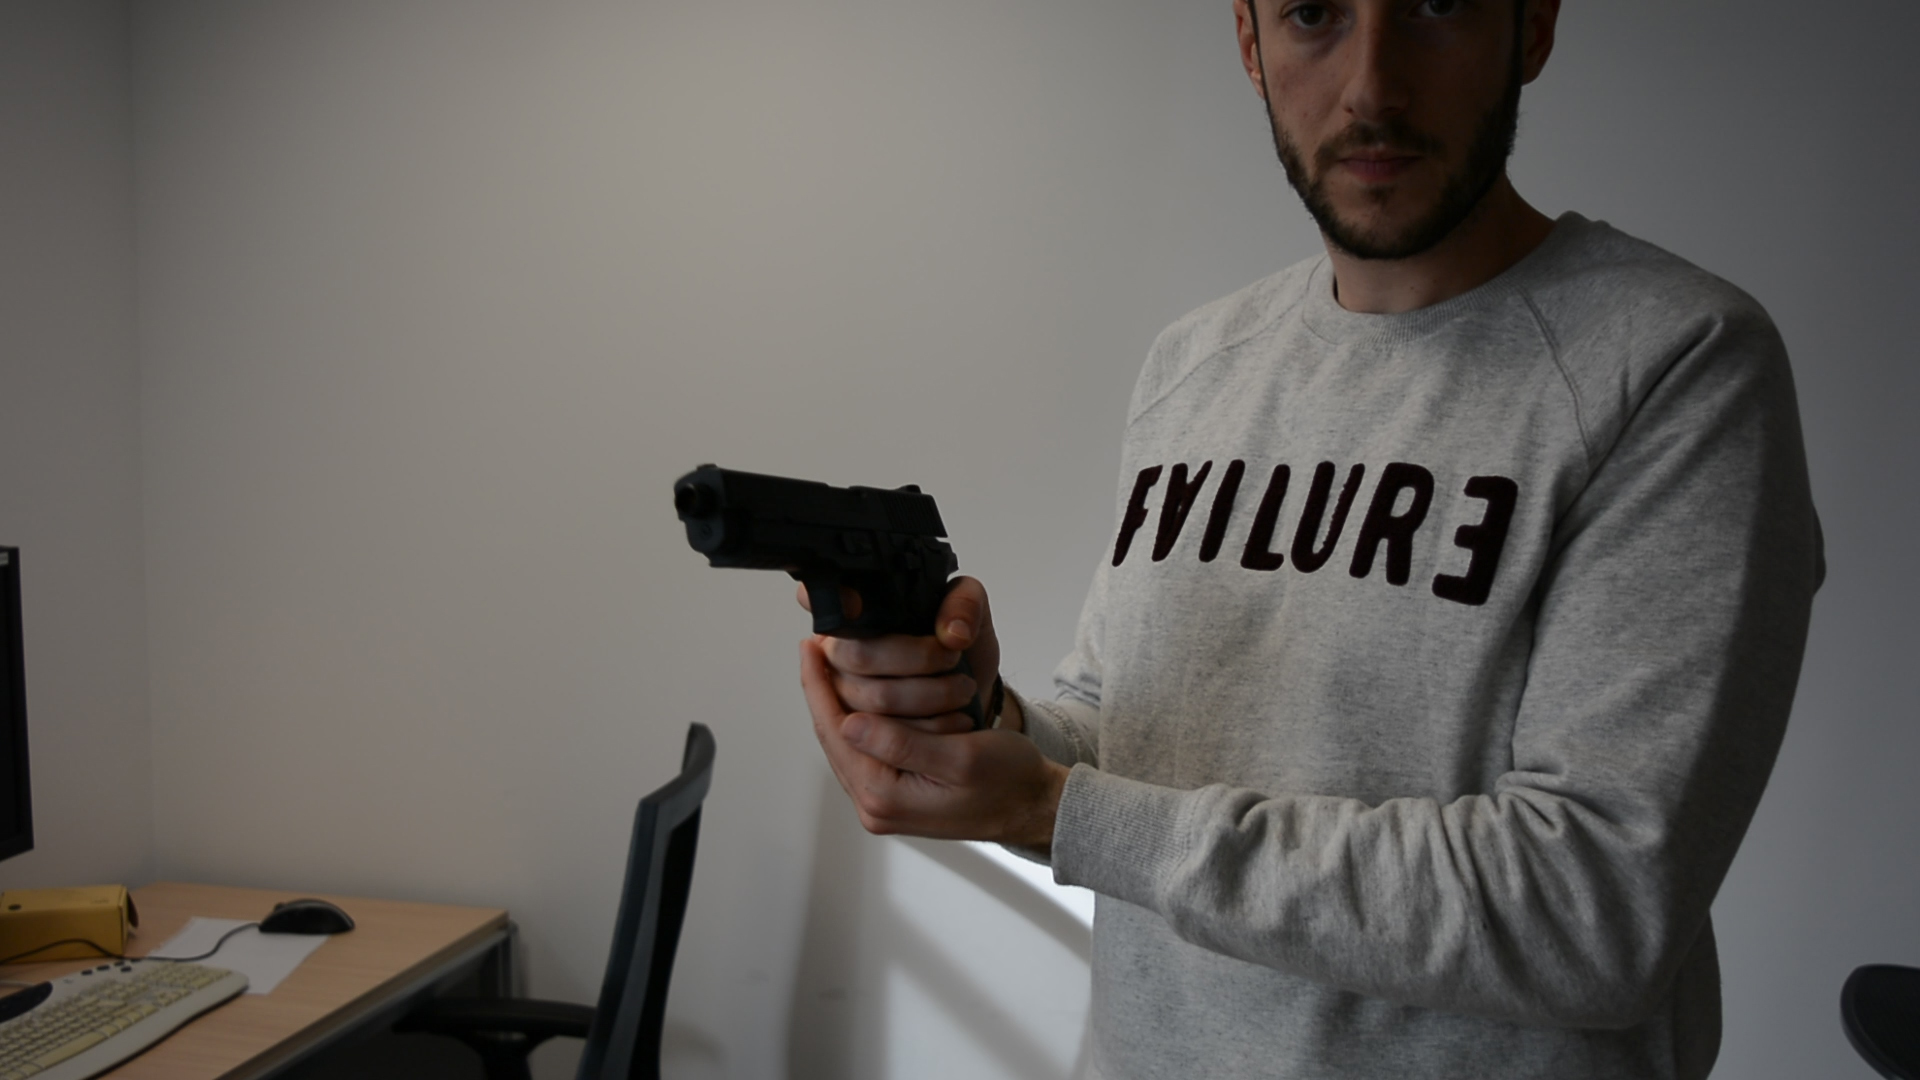pistol: (673, 462, 961, 646)
